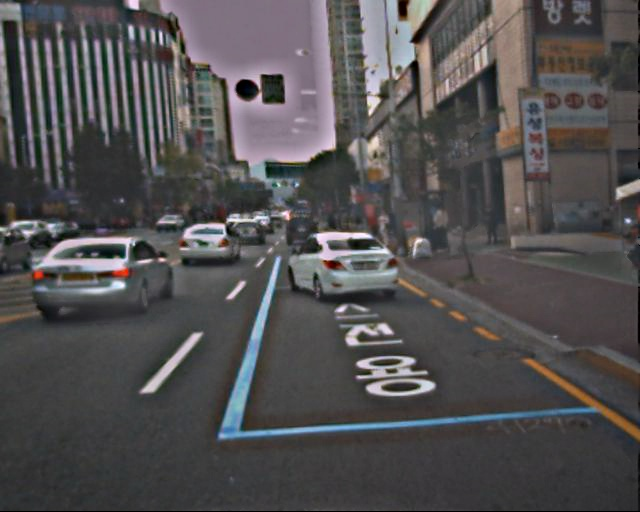person: (430, 204, 451, 255), (482, 205, 500, 248), (375, 210, 391, 250)
